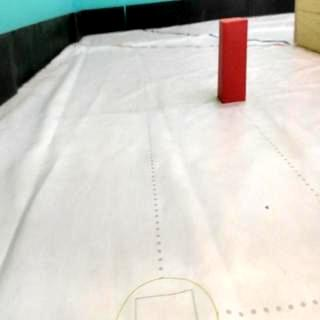redbox: (217, 16, 250, 106)
